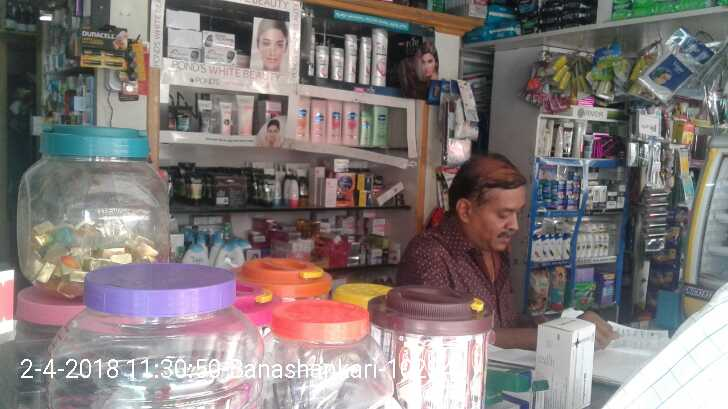vicks: (534, 171, 582, 214)
